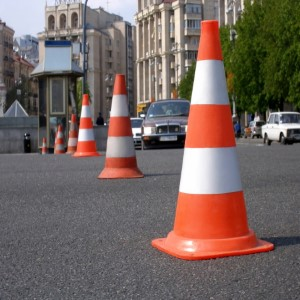traffic cone: (150, 20, 274, 260), (97, 75, 145, 179), (72, 93, 102, 158), (64, 113, 82, 155)
